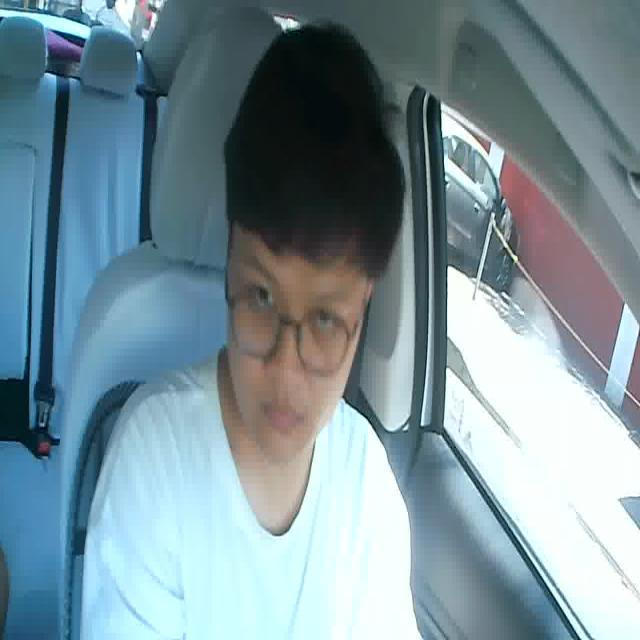Eye-Open: (243, 278, 281, 316), (304, 298, 342, 336)
Inattentive: (206, 19, 407, 465)
Normal: (260, 396, 307, 436)
